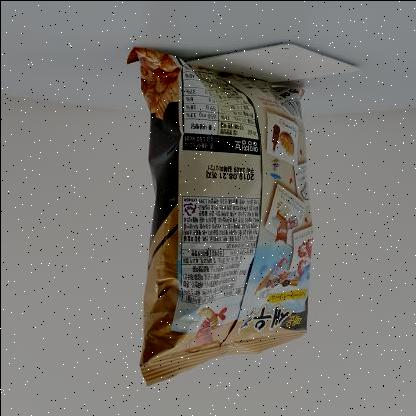Others: (113, 38, 328, 392)
